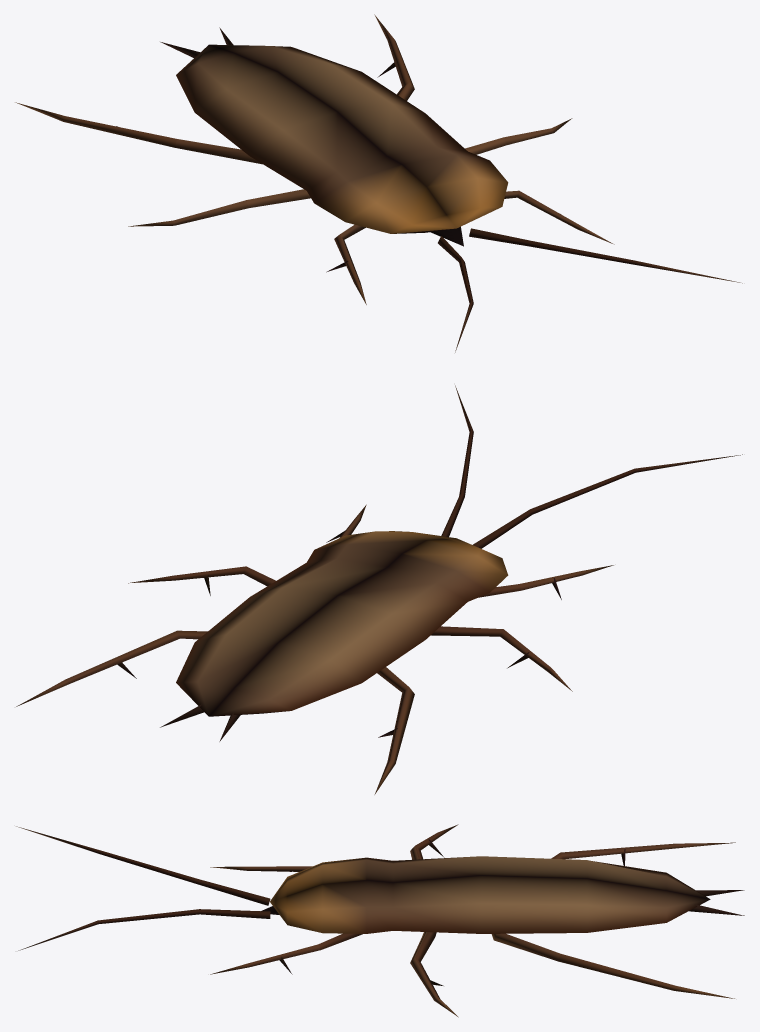
Rendered from cockroach.glb.
3 renders of one model, top to bottom at view 1: azimuth 30°, elevation 25°; view 2: azimuth 150°, elevation 25°; view 3: azimuth 270°, elevation 25°, orthographic. The views are drawn at different scales.
Visible parts, largest first — view 1: body, leg_R3, antenna_L, leg_R2, leg_L3, leg_L2, leg_R1, leg_L1, antenna_R; view 2: body, antenna_R, leg_L3, leg_R3, leg_R2, leg_L2, leg_R1, antenna_L; view 3: body, leg_L3, antenna_R, antenna_L, leg_R3, leg_L1, leg_L2, leg_R1, leg_R2.
Boxes of the visible parts, <box> form: body: <box>176,44,508,233</box>; leg_R3: <box>15,102,262,164</box>; antenna_L: <box>469,228,742,283</box>; leg_R2: <box>128,189,310,226</box>; leg_L3: <box>374,14,414,100</box>; leg_L2: <box>465,118,572,154</box>; leg_R1: <box>326,224,366,304</box>; leg_L1: <box>504,190,614,244</box>; antenna_R: <box>438,236,473,352</box>; body: <box>176,531,508,716</box>; antenna_R: <box>473,454,742,548</box>; leg_L3: <box>16,630,207,706</box>; leg_R3: <box>374,667,414,794</box>; leg_R2: <box>431,626,572,691</box>; leg_L2: <box>128,566,275,595</box>; leg_R1: <box>479,565,613,599</box>; antenna_L: <box>441,385,473,536</box>; body: <box>270,856,710,933</box>; leg_L3: <box>491,933,734,998</box>; antenna_R: <box>16,826,270,905</box>; antenna_L: <box>18,909,270,950</box>; leg_R3: <box>551,842,735,865</box>; leg_L1: <box>210,933,362,974</box>; leg_L2: <box>410,932,458,1017</box>; leg_R1: <box>210,866,312,871</box>; leg_R2: <box>410,824,458,859</box>.
Bounding box in the file's own units: 0.1248 × 0.0145 × 0.1992.
